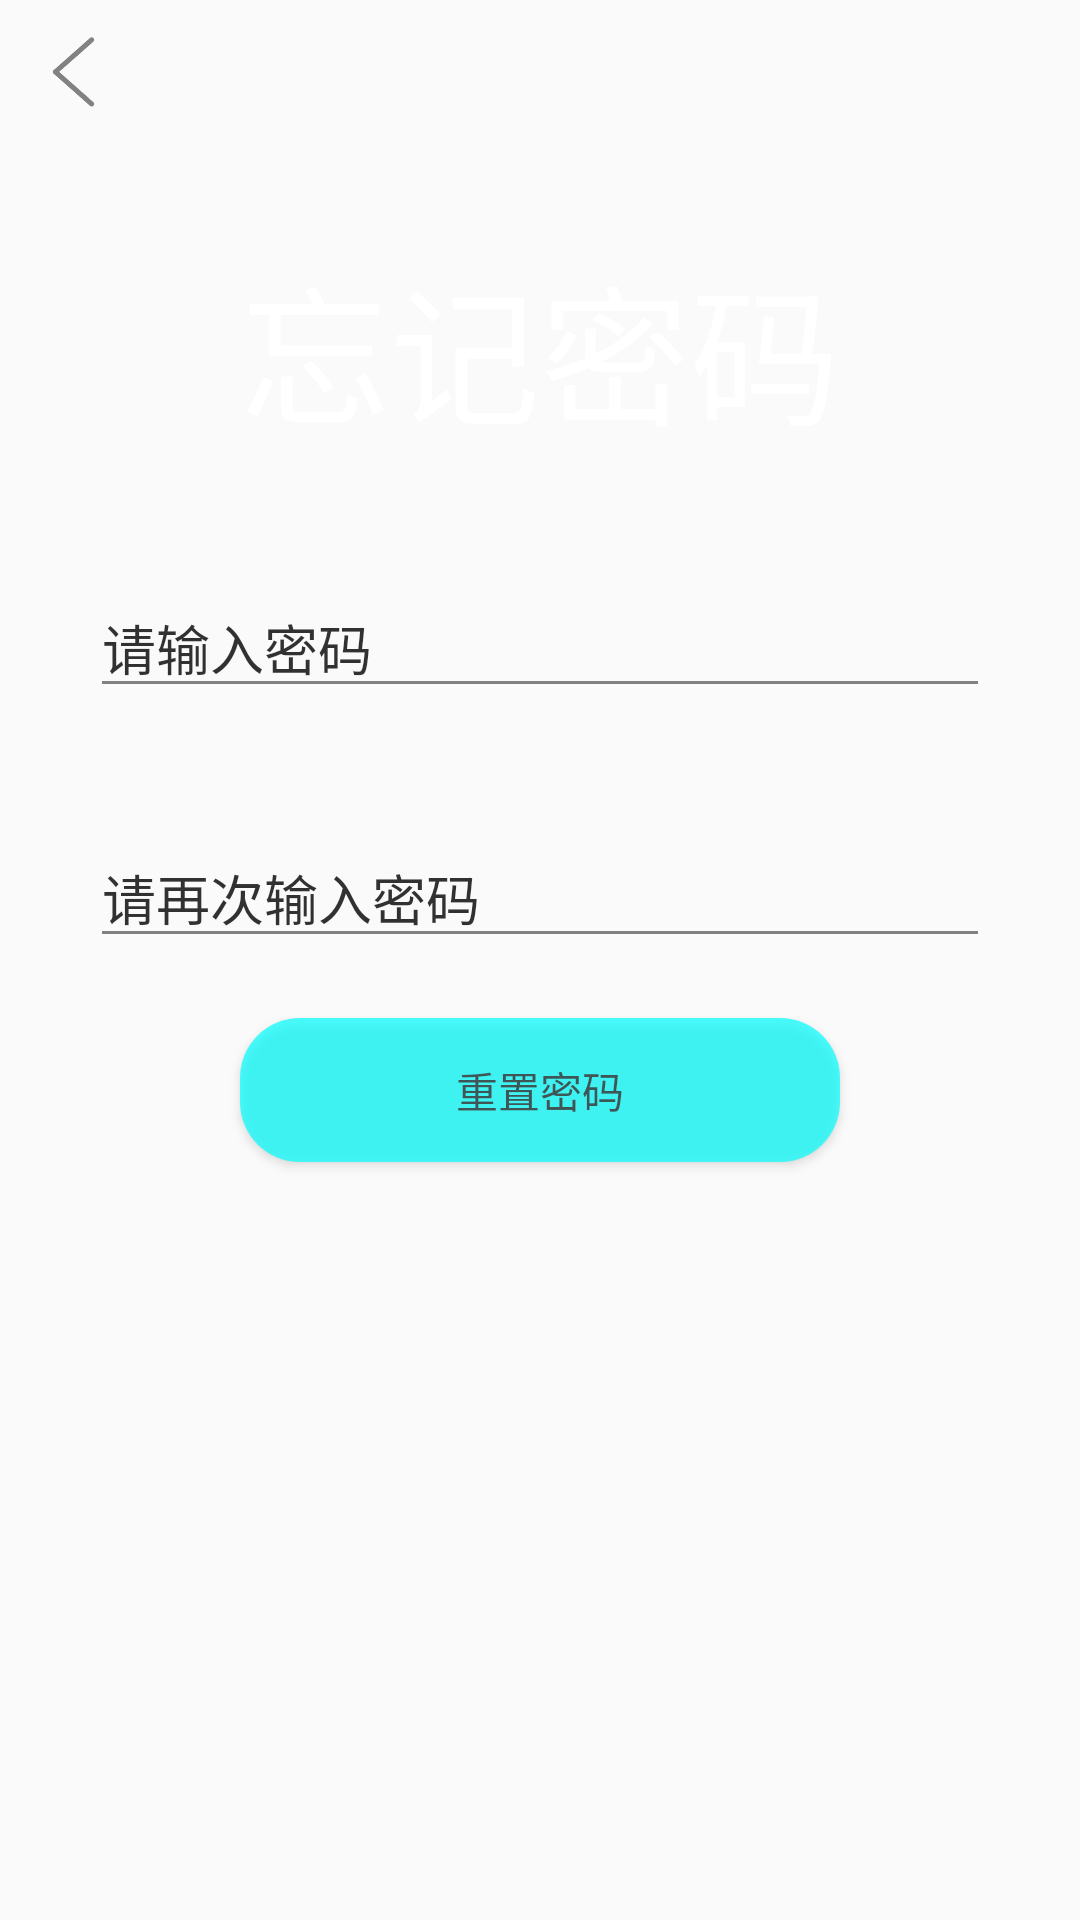

Icon click points for this 1080 × 1920 phone screenshot, format (x,y):
back: (73,72)
